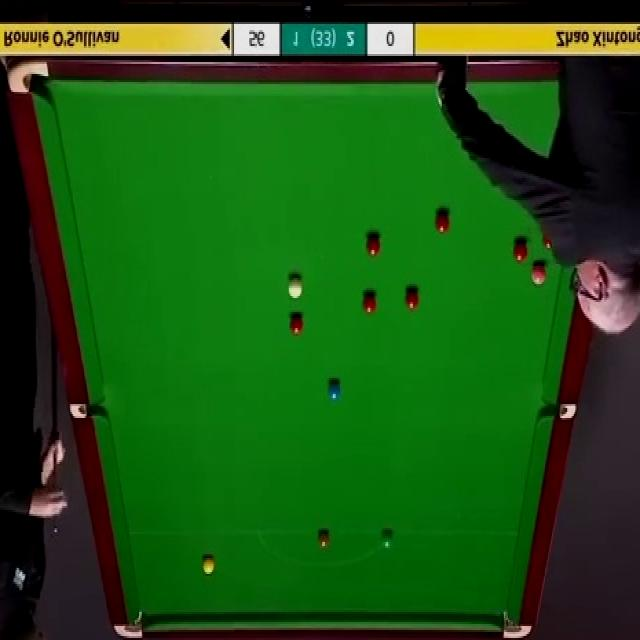blue-ball: (328, 379, 341, 401)
brown-ball: (318, 530, 330, 547)
green-ball: (382, 530, 393, 550)
pink-ball: (531, 262, 548, 287)
red-ball: (433, 210, 451, 235), (405, 288, 420, 313), (367, 233, 381, 258), (362, 291, 376, 315), (513, 241, 528, 262), (290, 316, 304, 338), (541, 234, 555, 253)
white-ball: (286, 271, 304, 299)
yellow-ball: (202, 554, 216, 574)
